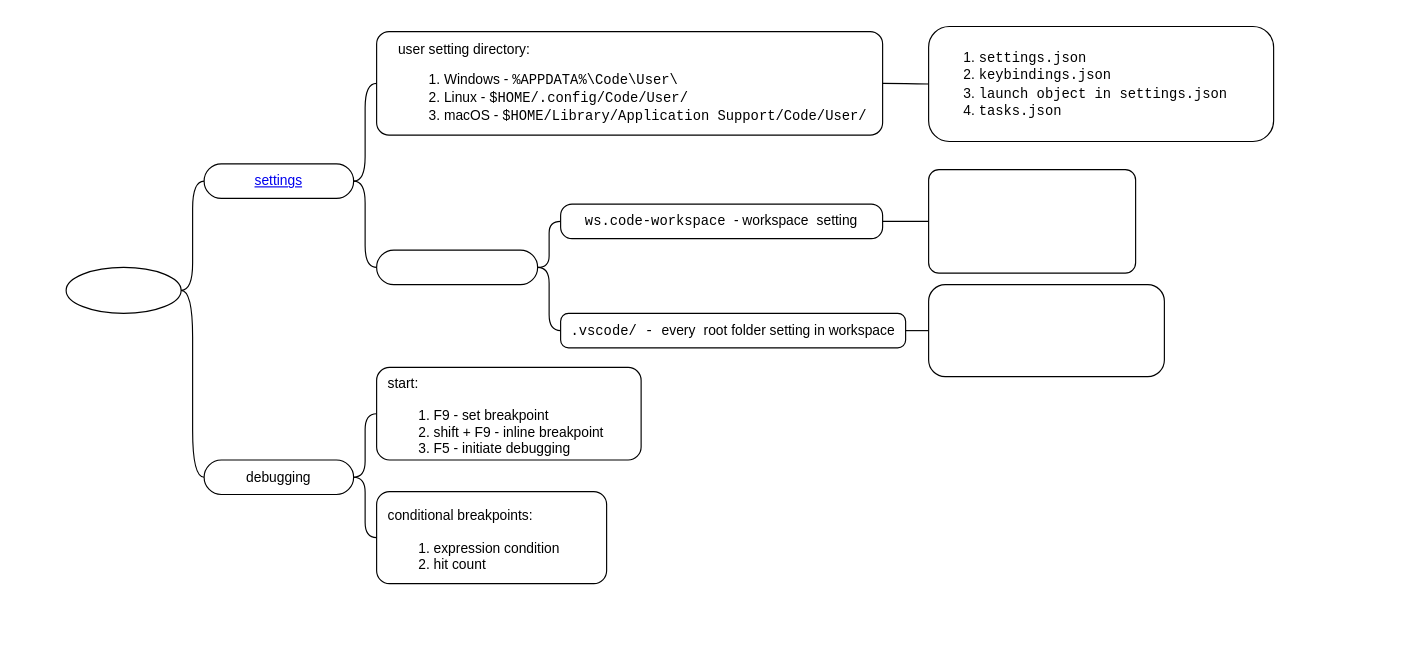
The diagram is 1408 pixels wide and 660 high, and some of its shapes have lost their labels. The centre of each missing label's shape, as x and y in pixels:
settings.json keybindings.json launch.json tasks.json: (x=1045, y=330)
vscode: (x=123, y=289)
workspace: (x=456, y=267)
{ "folder": [], "settings": {}, "[typescript]": {} }: (x=1031, y=220)
